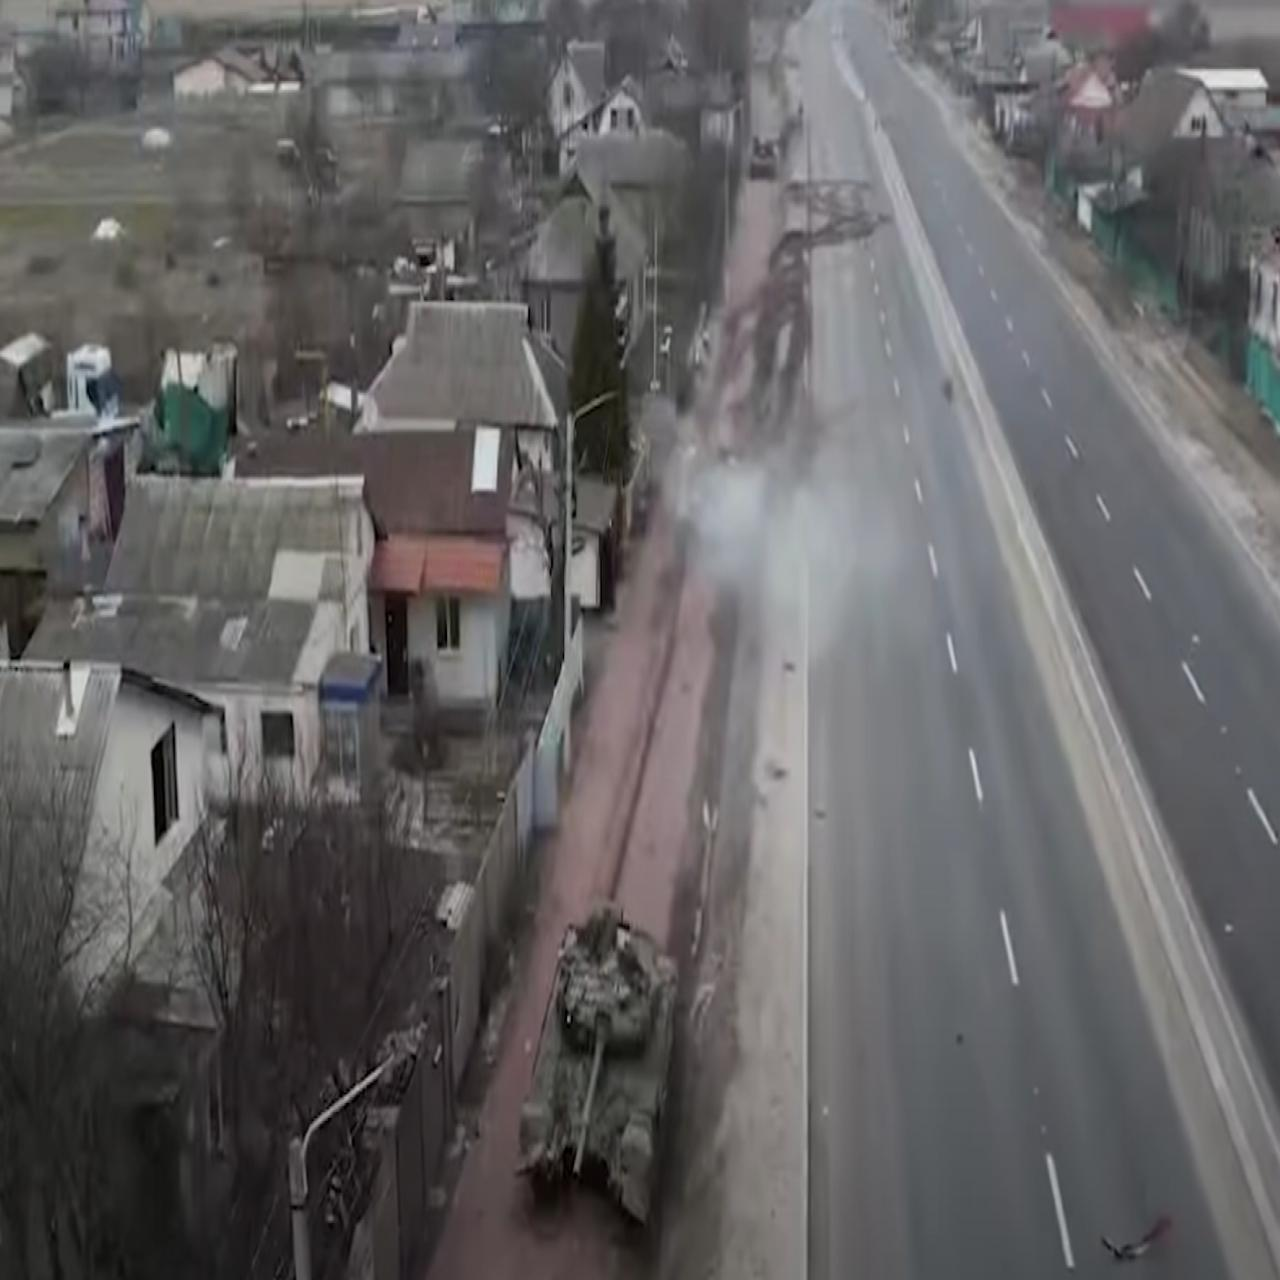MIL_Veh: (509, 905, 683, 1228), (738, 135, 781, 178)
